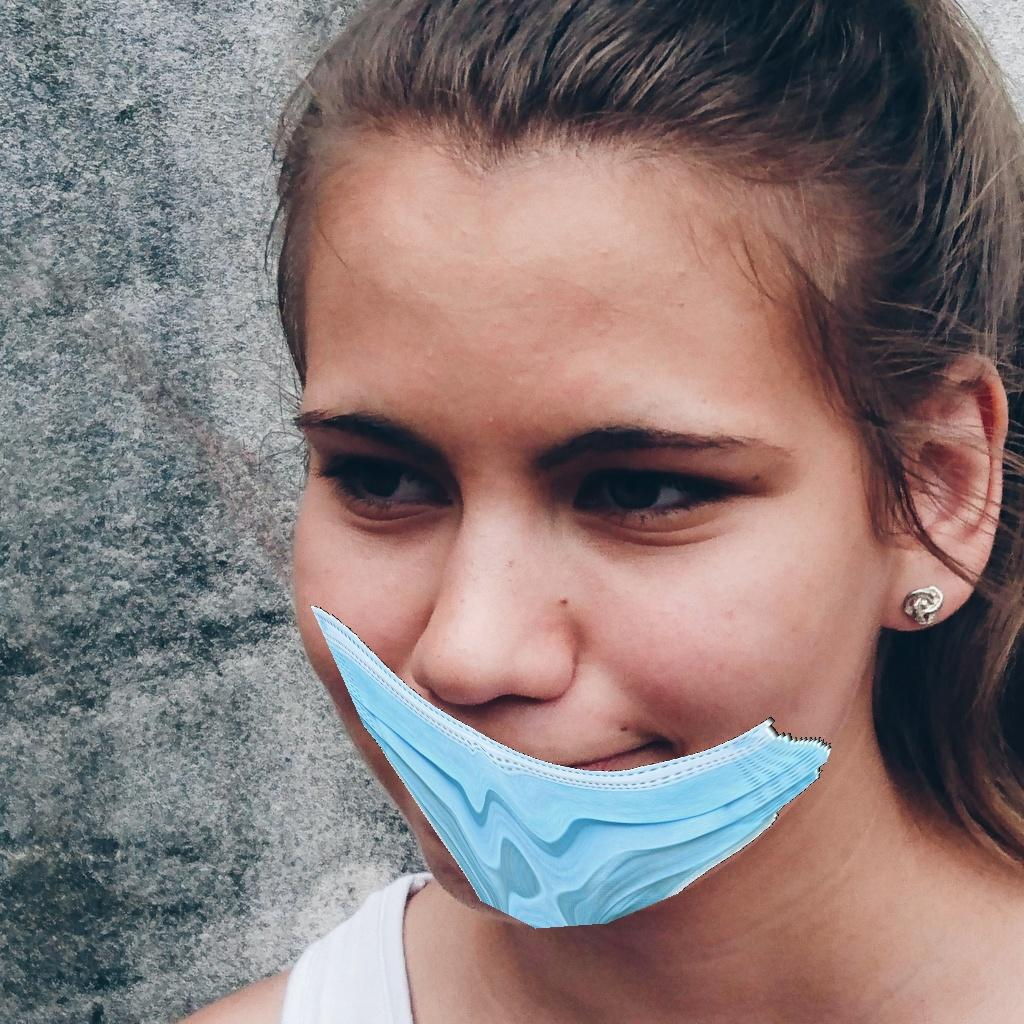Máscara Incorreta: (299, 207, 835, 915)
